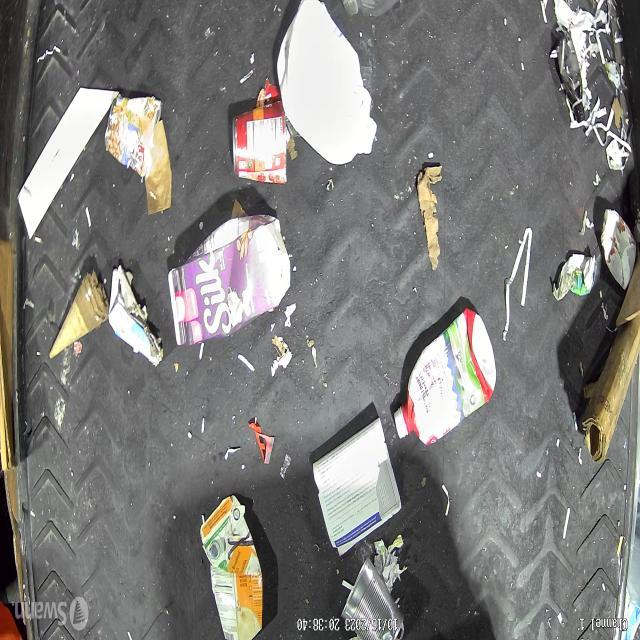can: (226, 97, 292, 191), (334, 566, 412, 640)
milk_jug: (271, 0, 381, 172)
